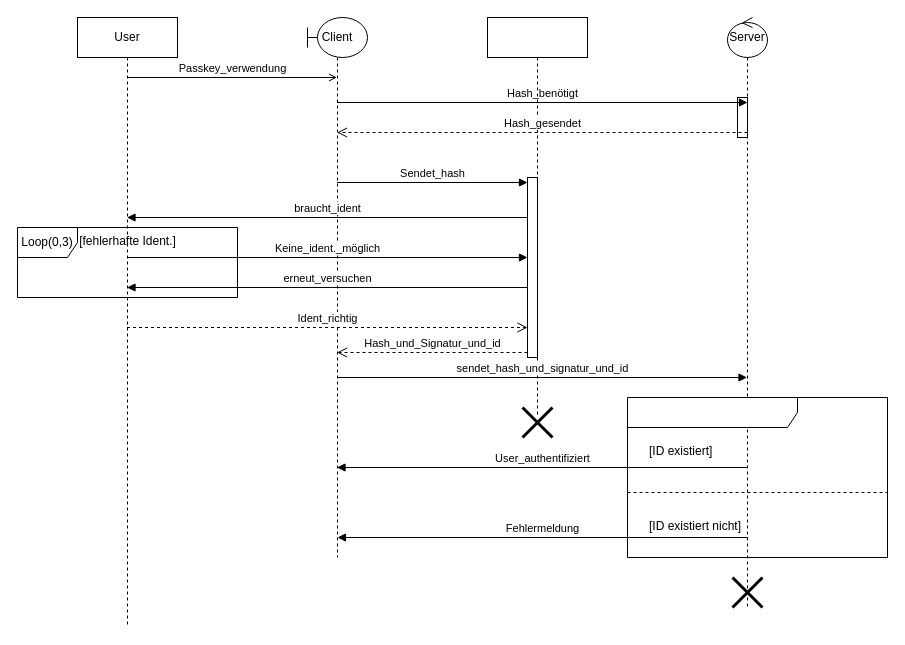
This 905x645 diagram has some shape labels left out. Each missing label, with the centre of its shape:
"Alternative" belongs at point 757,477.
"Authentifikator" belongs at point 537,217.
